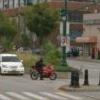Motorcycle: (26, 57, 63, 84)
